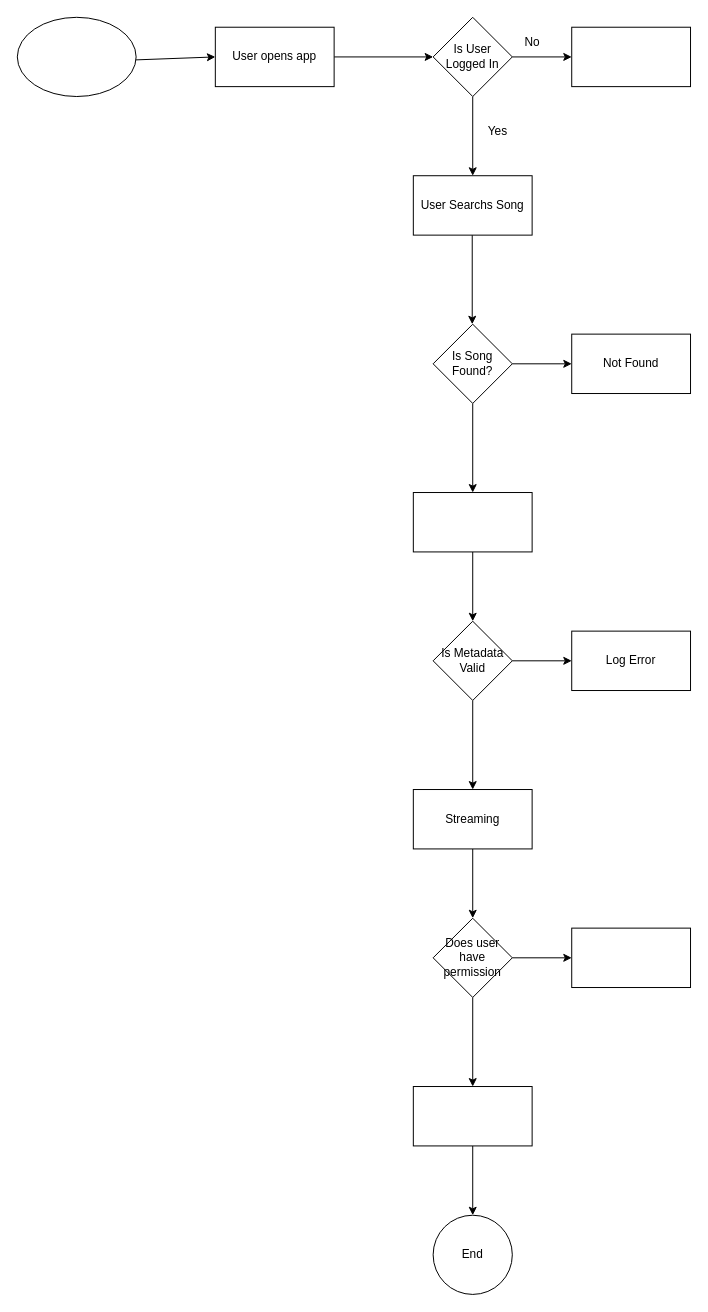
Image size: 708x1312. Some labels were removed from this diagram. The shapes that lost their labels are listed below. From the top down, each one's centre as x and y in pixels, then its label:
point 76,56: Start
point 631,56: Redirect to Login
point 472,522: Fetch Song Metadata
point 631,957: Deny access
point 472,1116: Stream Song
